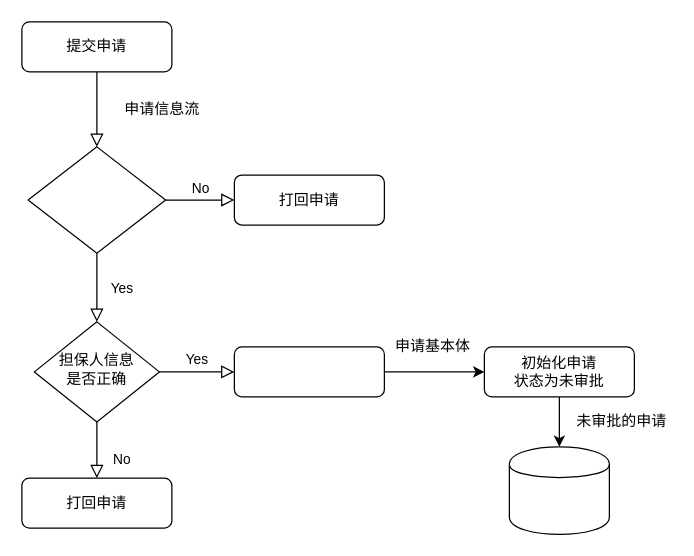
This 694x556 diagram has some shape labels left out. The box of each missing label's shape, as (x1, y1, x2, y2) in pixels:
申请基本信息 是否合格: (27, 146, 166, 253)
申请实例化: (233, 346, 384, 397)
申请池: (508, 446, 609, 534)
